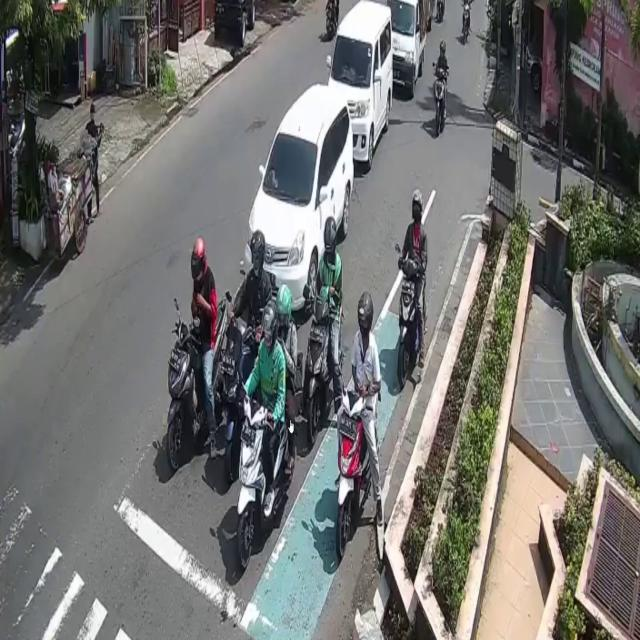bus: (163, 297, 234, 474), (237, 396, 290, 568), (337, 387, 372, 555), (305, 298, 333, 447), (399, 258, 426, 385), (435, 67, 447, 134)
motorcycle: (243, 81, 354, 319), (329, 0, 394, 162), (388, 0, 427, 94)
